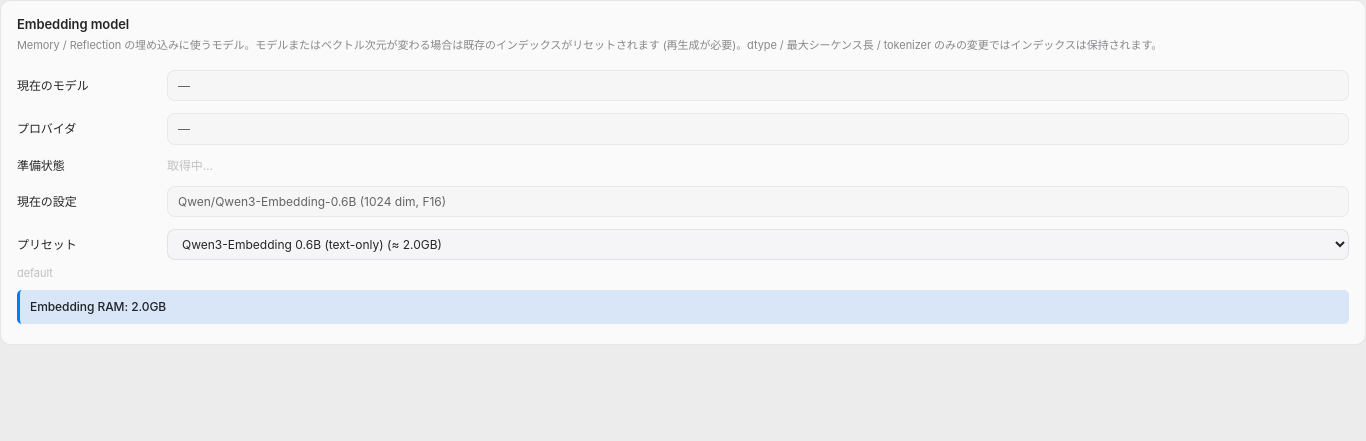
Test: EmbeddingProviderCard › shows RAM estimates for embedding presets
This screenshot has width=1366, height=441.
Check: the text "現在の設定" is shown, box [17,194,77,209]
Check: the text "Embedding RAM: 2.0GB" is shown, box [17,290,1349,324]
Select "Qwen3-VL-Embedding 2B (≈ 6.0GB)" in the dropdown at (758, 245), box [167,229,1349,260]
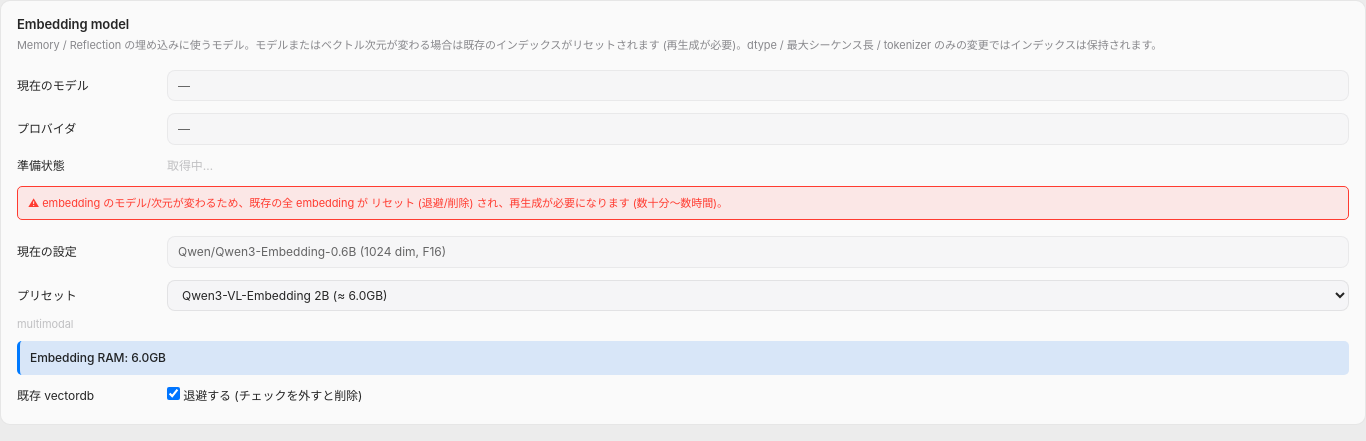
Check: the text "Embedding RAM: 6.0GB" is shown, box [17,341,1349,375]
